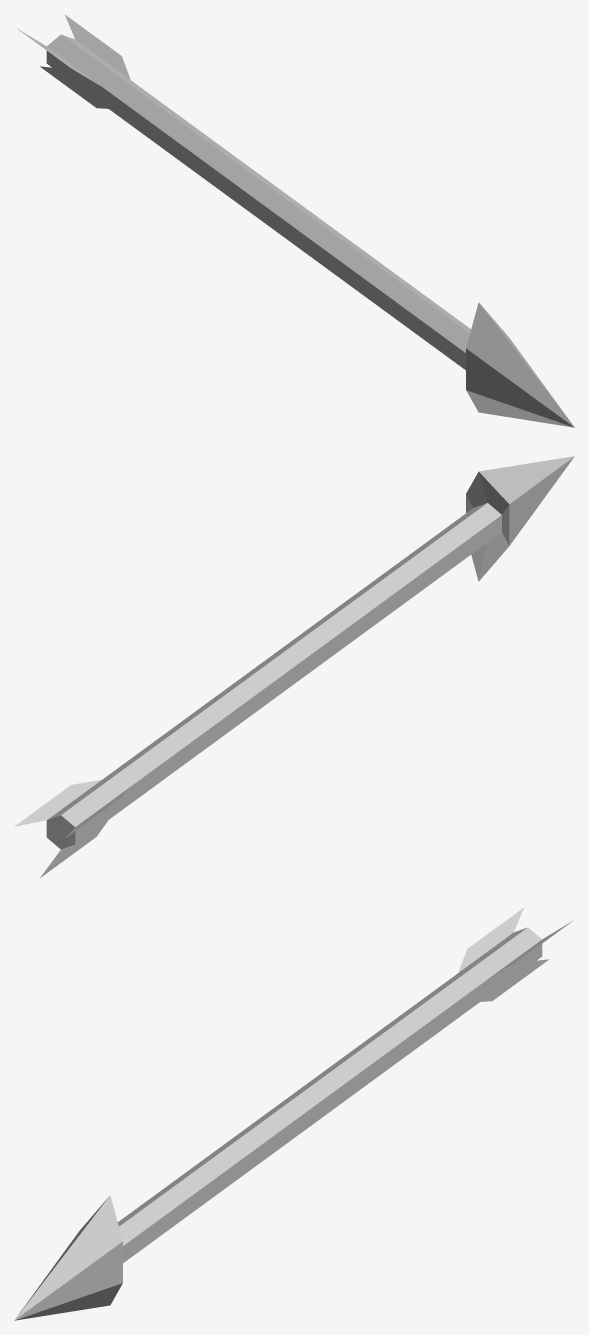
The model's file is GobbinArrow.glb.
The picture shows the model from 3 angles, top to bottom: view 1: azimuth 30°, elevation 25°; view 2: azimuth 150°, elevation 25°; view 3: azimuth 330°, elevation 25°; orthographic projection.
Visible parts, largest first — view 1: Arrow; view 2: Arrow; view 3: Arrow.
Boxes of the visible parts, x1,y1,x2,y2 form: Arrow: (15, 15, 574, 427); Arrow: (14, 456, 574, 877); Arrow: (14, 908, 573, 1320).
Bounding box in the file's own units: 0.0699 × 0.1457 × 1.28.
1 material, 1 textured.
